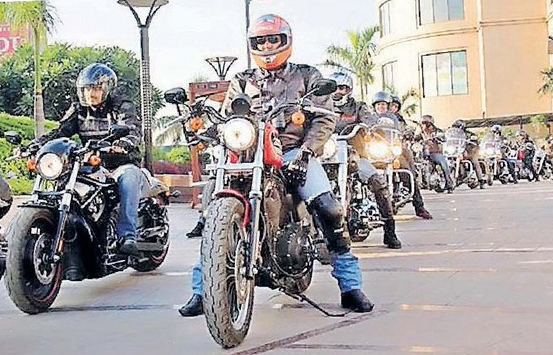helmet: (77, 63, 118, 113), (249, 16, 290, 66)
